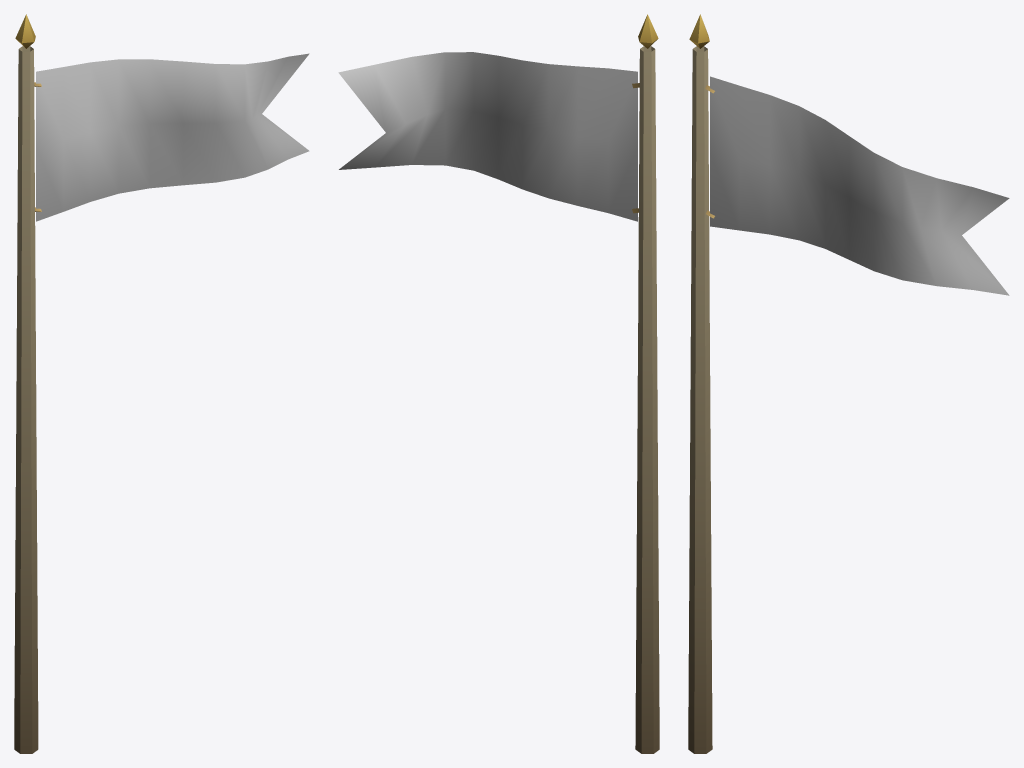
The model's file is pennant_pole.glb.
3 views of the same model, side by side, from view 1: azimuth 30°, elevation 25°; view 2: azimuth 150°, elevation 25°; view 3: azimuth 330°, elevation 25° (orthographic).
Parts seen in each view (by area): view 1: pennant_pole, pennant_pole_trim; view 2: pennant_pole, pennant_pole_trim; view 3: pennant_pole, pennant_pole_trim.
Part boxes in pixels (box(x1,y1,x2,y2)): pennant_pole: box(36, 53, 309, 221); pennant_pole_trim: box(14, 14, 41, 753); pennant_pole: box(338, 52, 637, 221); pennant_pole_trim: box(632, 14, 659, 753); pennant_pole: box(710, 76, 1009, 295); pennant_pole_trim: box(688, 14, 714, 753).
Bounding box in the file's own units: 0.6391 × 1.47 × 0.077.
